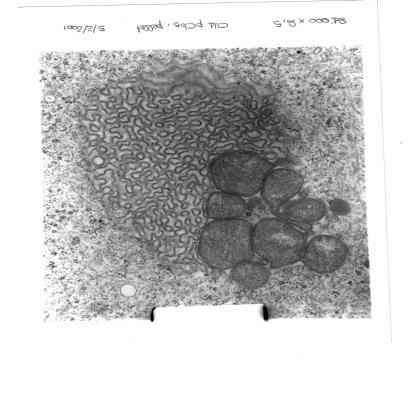mitochondria: (193, 219, 256, 270), (210, 150, 274, 194), (253, 218, 308, 269), (300, 235, 352, 274), (266, 168, 308, 201), (202, 191, 250, 218), (231, 261, 268, 290), (288, 197, 327, 223)
